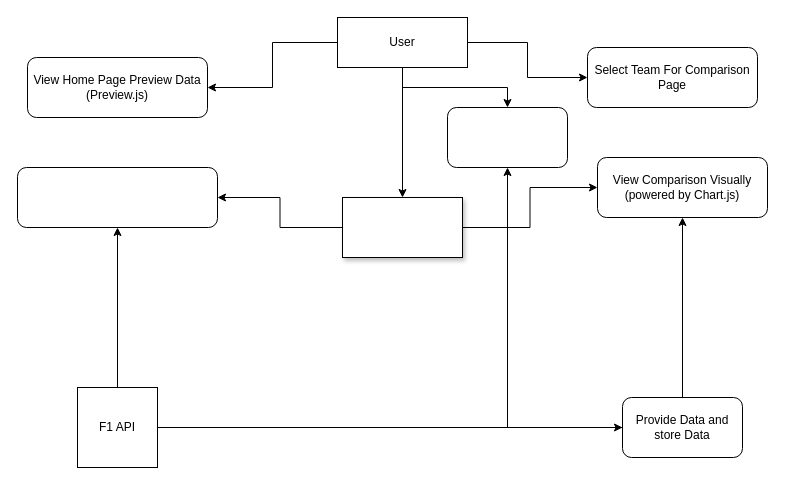
Some shapes in this 785 by 485 pixel diagram are drawn without their labels. Here are the shapes that lost their labels. From the top down, the centre of each, then its label:
(507,137): Select Team For Timeline page
(117,197): Fetch Team Data (Team1Data.js/Team2Data.js)
(403,228): View Comparison Page
